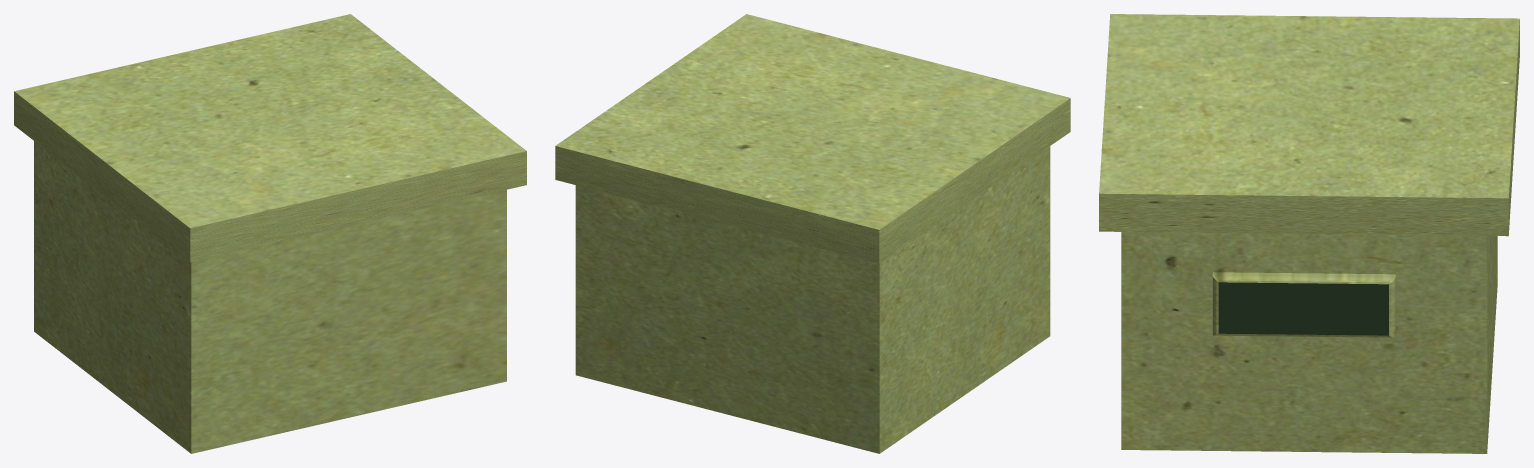
Rendered from KOROBKABIG.fbx.
The picture shows the model from 3 angles, left to right: view 1: azimuth 30°, elevation 25°; view 2: azimuth 150°, elevation 25°; view 3: azimuth 270°, elevation 25°; orthographic projection. The views are drawn at different scales.
Visible parts, largest first — view 1: BIGKOROBKA.013; view 2: BIGKOROBKA.013; view 3: BIGKOROBKA.013.
Boxes of the visible parts, <box> form: BIGKOROBKA.013: <box>14,14,526,453</box>; BIGKOROBKA.013: <box>555,14,1070,453</box>; BIGKOROBKA.013: <box>1099,14,1519,453</box>.
Bounding box in the file's own units: 177 × 117 × 171.
2 materials, 1 textured.
